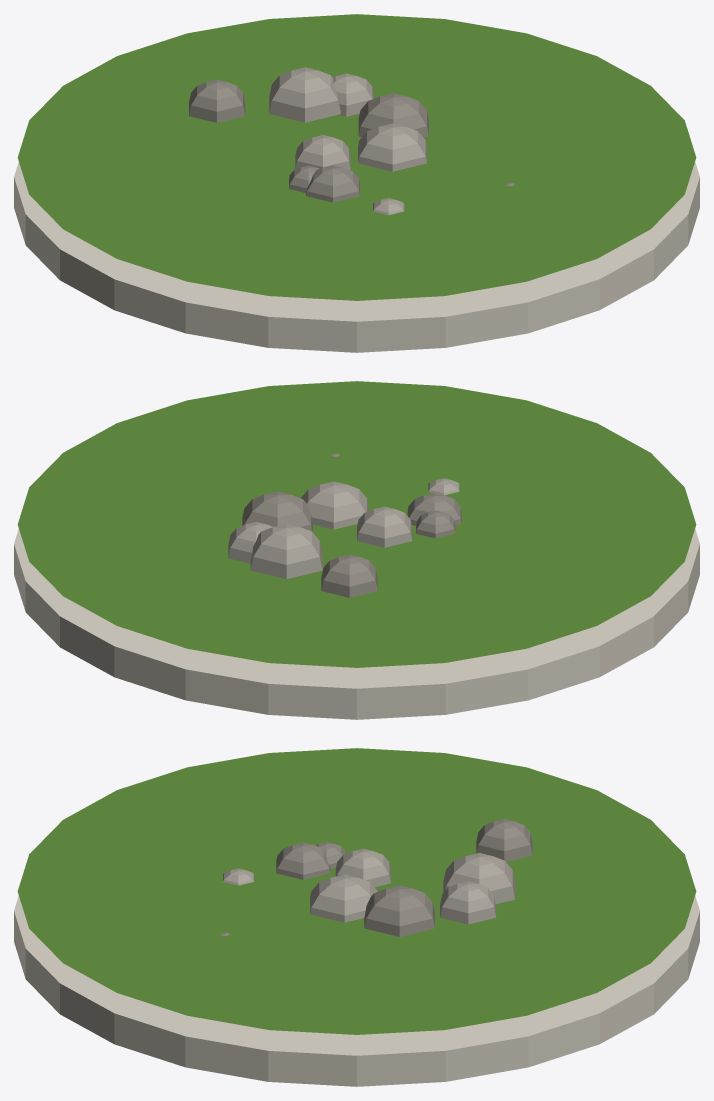
The model's file is rb_pbboulders.glb.
3 renders of one model, top to bottom at view 1: azimuth 30°, elevation 25°; view 2: azimuth 150°, elevation 25°; view 3: azimuth 270°, elevation 25°, orthographic.
Visible parts, largest first — view 1: rb_pbboulders_lod0; view 2: rb_pbboulders_lod0; view 3: rb_pbboulders_lod0.
Boxes of the visible parts, left/top/right/bottom form: rb_pbboulders_lod0: left=14, top=14, right=699, bottom=352; rb_pbboulders_lod0: left=14, top=381, right=699, bottom=719; rb_pbboulders_lod0: left=14, top=748, right=699, bottom=1086.
Size of what is drawn, in the model's own units: 38 by 5.47 by 38.
